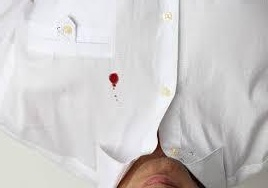blood: (109, 73, 120, 84)
